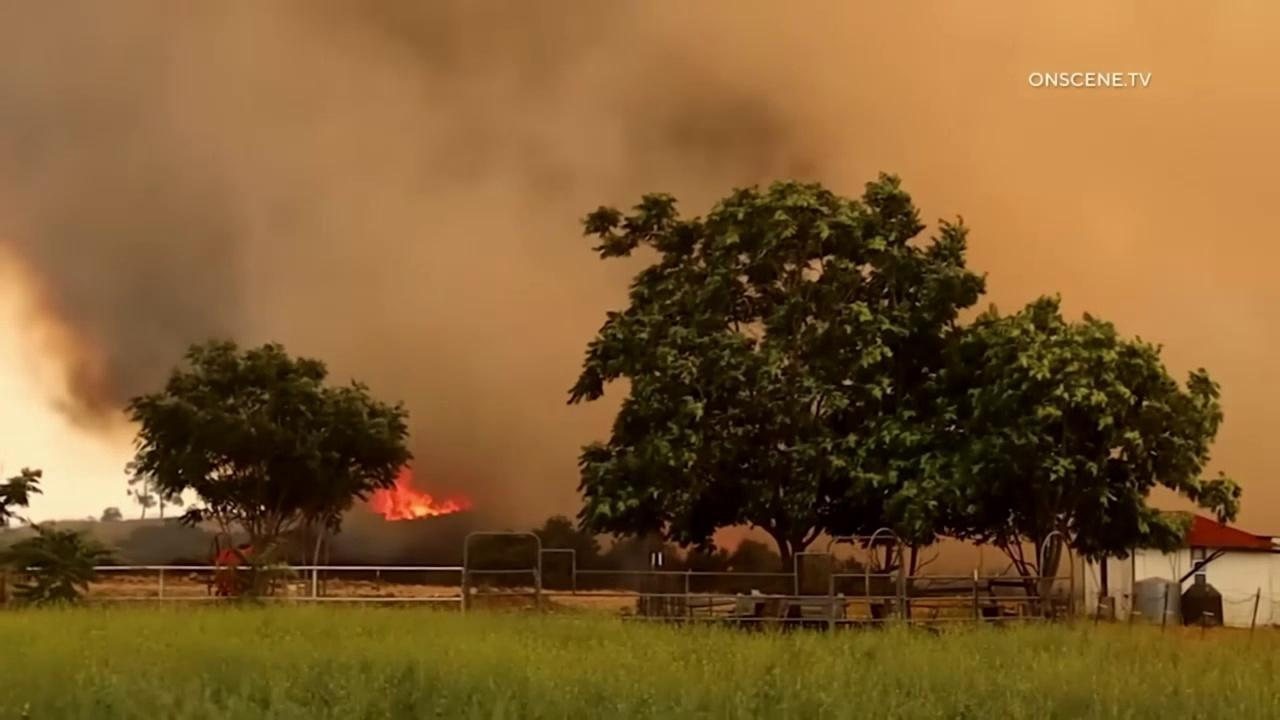fire: (369, 463, 471, 522)
smoke: (0, 0, 1280, 566)
